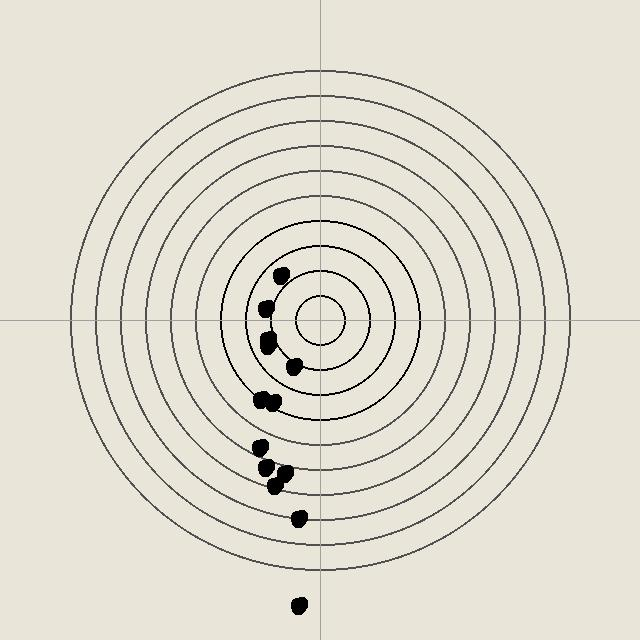vertical_scatter: (270, 265, 290, 285), (288, 595, 308, 615), (249, 437, 269, 457), (257, 329, 277, 349), (255, 457, 275, 477), (257, 335, 277, 355), (264, 475, 284, 495), (274, 463, 294, 483), (262, 392, 282, 412), (250, 389, 270, 409), (255, 298, 275, 318), (283, 356, 303, 376), (288, 508, 308, 528)
